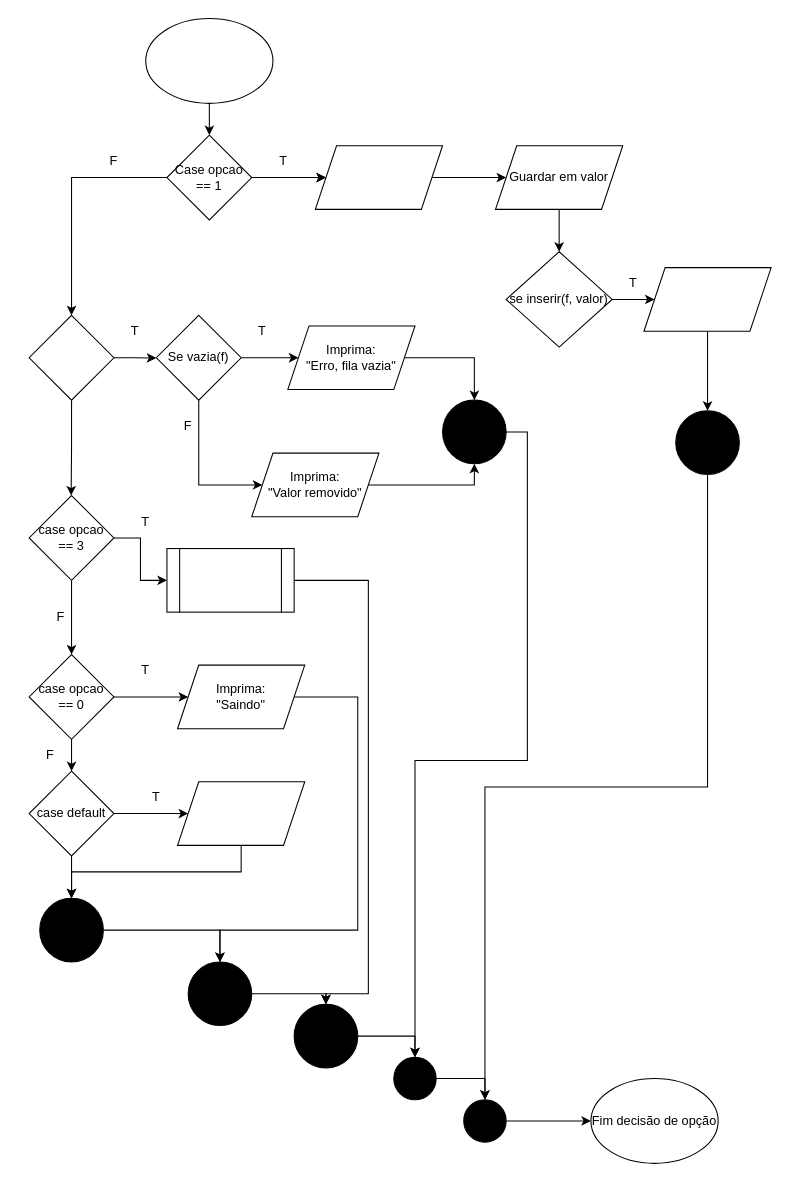
Image size: 790x1182. Some labels were removed from this diagram. Each missing label, with the centre of its shape:
case opcao ==2: point 71,357
Decisão de opção: point 209,60
Imprima: "Opção Inválida": point 240,813
Imprima: "Sucesso": point 707,299
Imprime: "Insira o valor": point 378,177
listarFila(f): point 230,579
